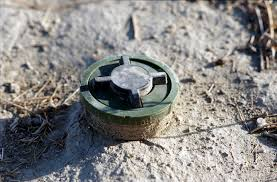car: (70, 45, 193, 147)
